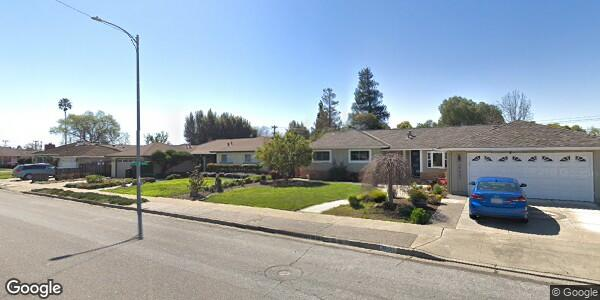Steel_Pole: (85, 14, 150, 242)
